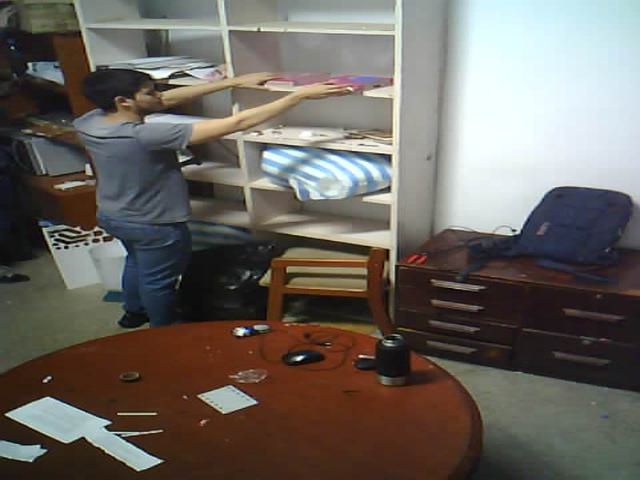person: (31, 36, 350, 330)
